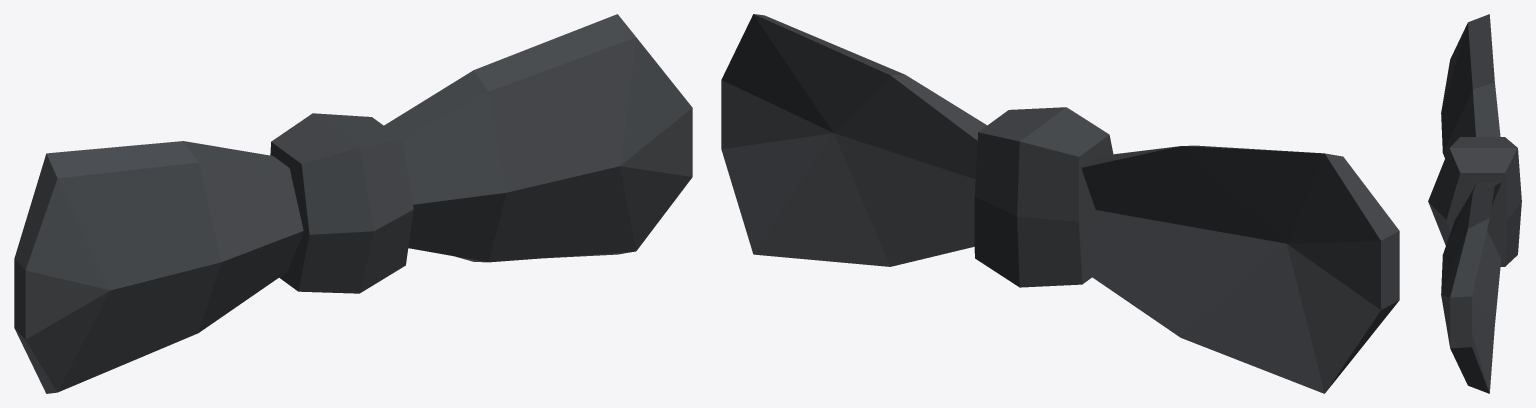
File: Bowtie.fbx
The picture shows the model from 3 angles, left to right: view 1: azimuth 30°, elevation 25°; view 2: azimuth 150°, elevation 25°; view 3: azimuth 270°, elevation 25°; orthographic projection. The views are drawn at different scales.
Parts seen in each view (by area): view 1: Bowtie; view 2: Bowtie; view 3: Bowtie.
Part boxes in pixels (box(x1,y1,x2,y2)): Bowtie: box(14, 14, 692, 393); Bowtie: box(721, 14, 1399, 393); Bowtie: box(1428, 14, 1521, 393).
Size of the model in its own units: 0.6344 by 0.2186 by 0.1057.
